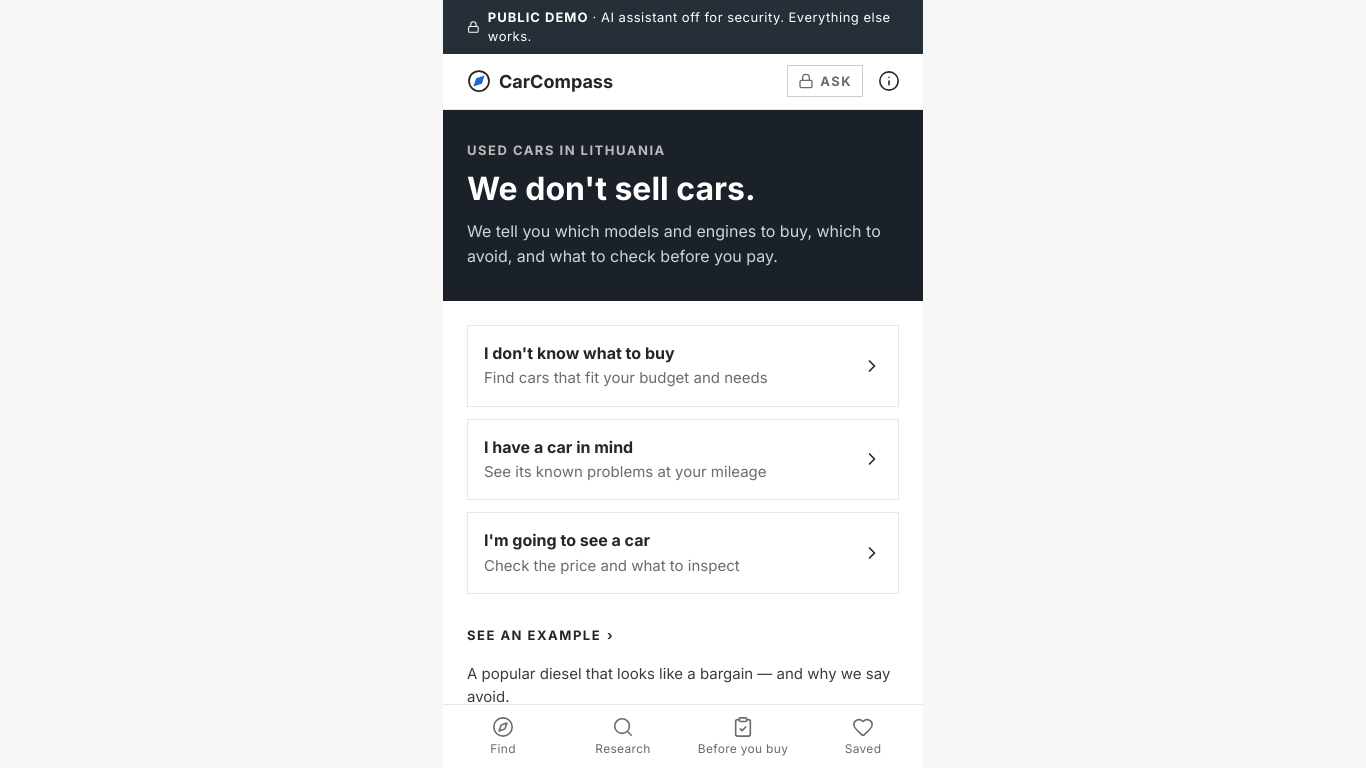
Test: public edition: banner shown and the assistant opens the disabled sheet
Expected: the element with test id "public-banner" is shown, [443,0,923,54]
Click the button with test id "ask-button" at (825, 81), box [783,59,867,103]
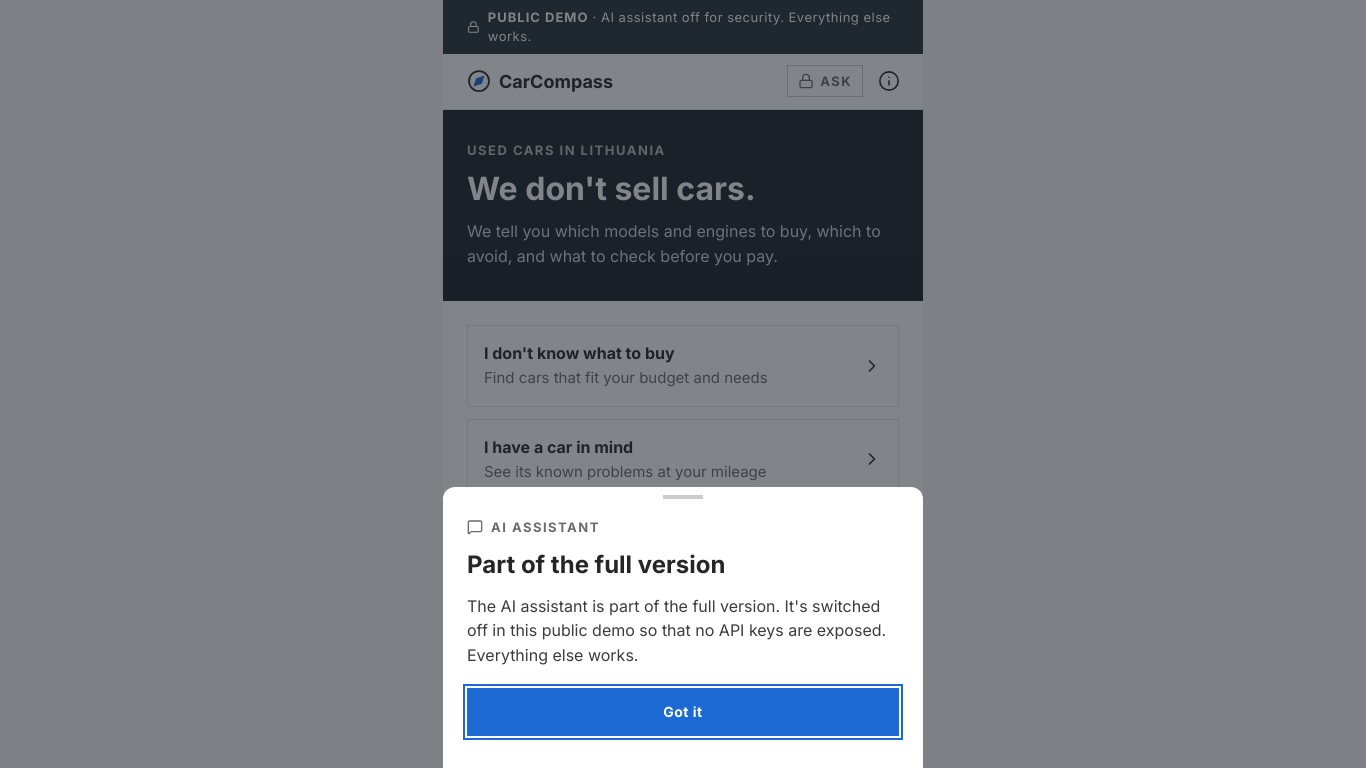
Result: the dialog named "AI assistant unavailable" is shown at [443,487,923,767]
